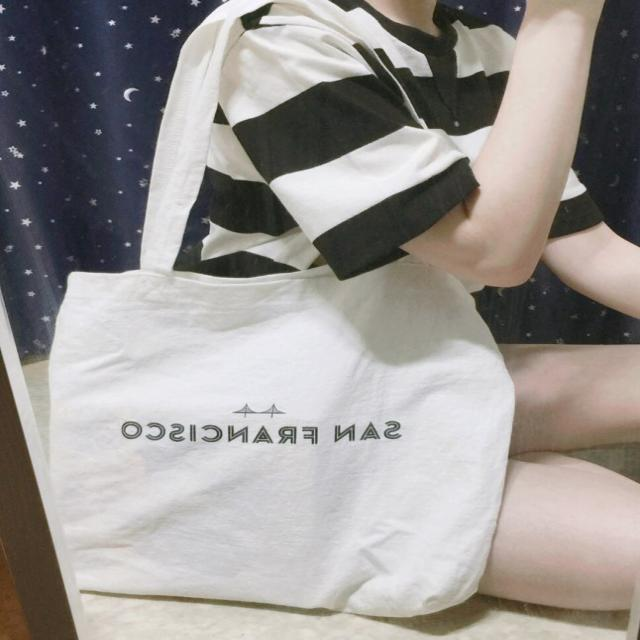ecobag: (32, 9, 518, 628)
